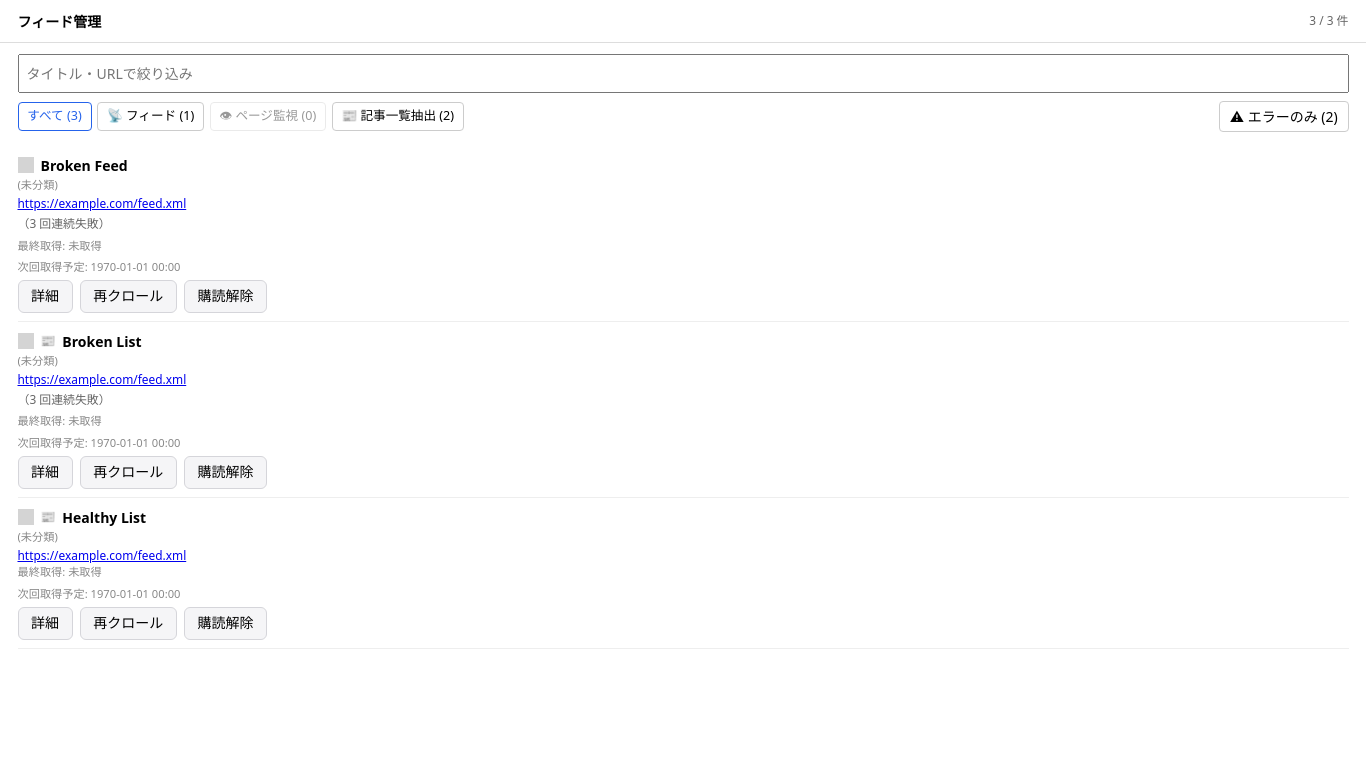
it: FeedManagerPane kind filter › combines the kind filter with the ⚠ エラーのみ view
The image size is (1366, 768).
Step 1. Click the button "⚠ エラーのみ (2)" → (1284, 117), box x1=1219 y1=101 x2=1348 y2=132
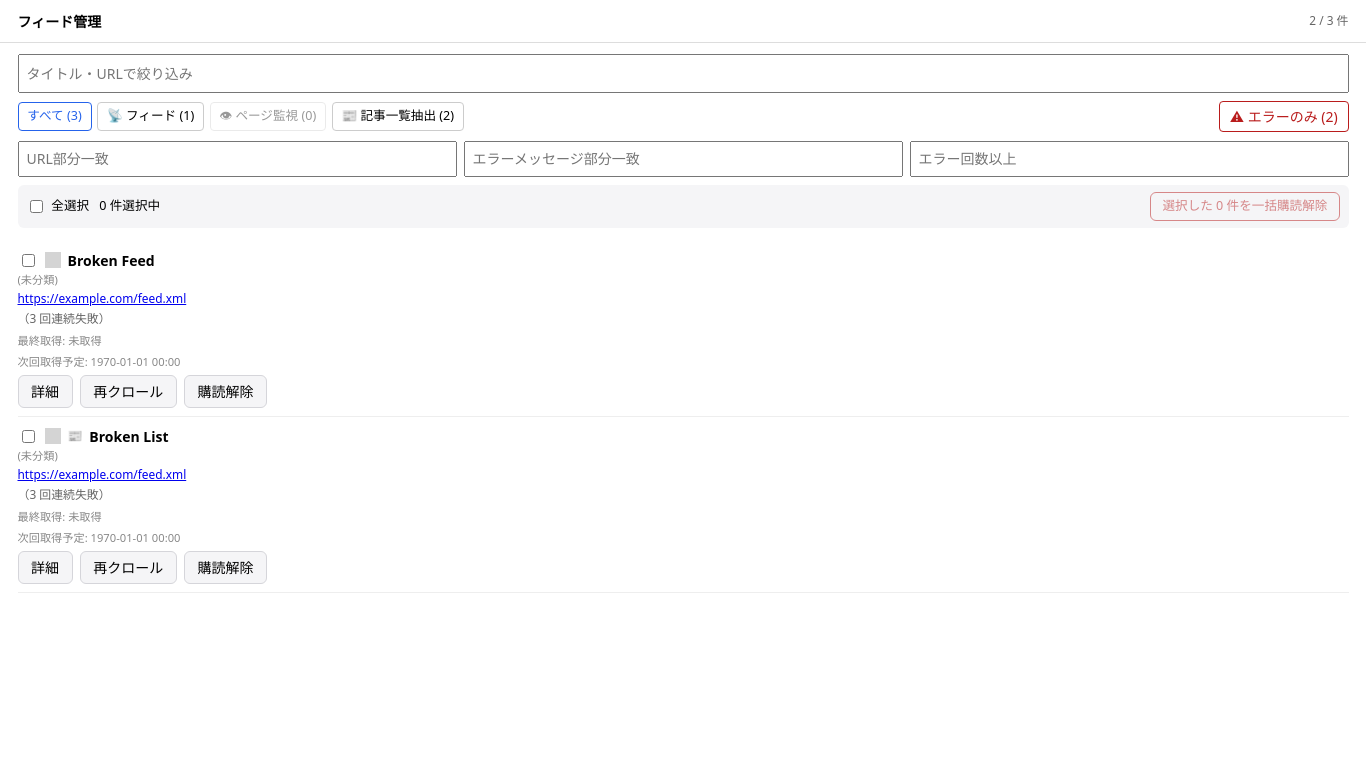
Step 2. Click the button "📰 記事一覧抽出 (2)" → (398, 117), box x1=332 y1=102 x2=464 y2=131
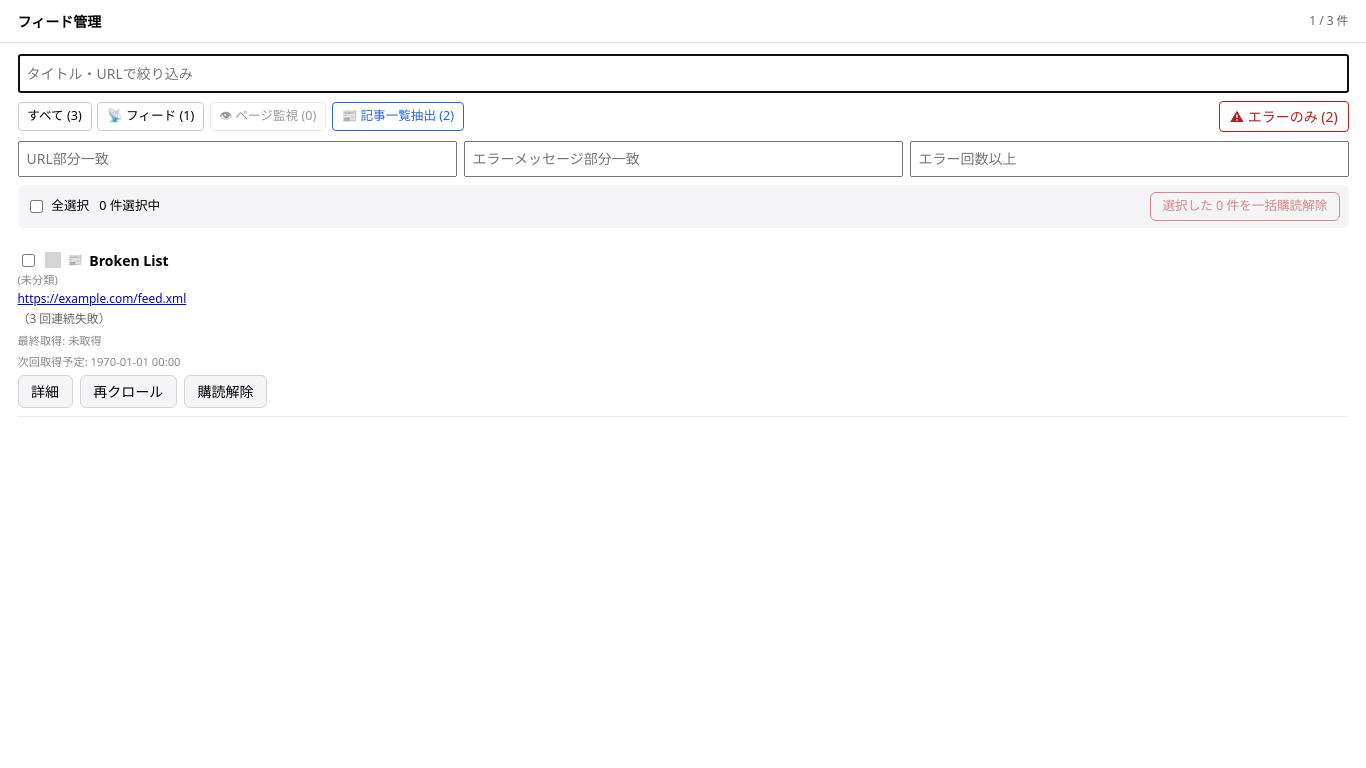
expect the text "Broken List" is shown: met, box x1=89 y1=251 x2=168 y2=270
expect the number of list items is 1: met, box x1=18 y1=242 x2=1348 y2=418
